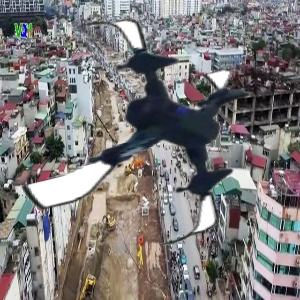drone: (10, 9, 263, 262)
